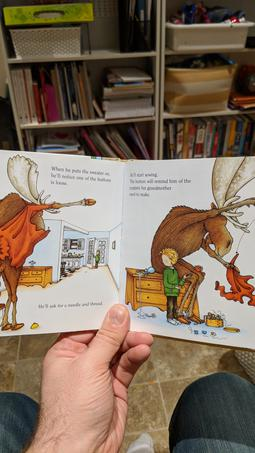text block: (124, 167, 198, 202), (40, 161, 113, 193), (34, 292, 109, 315)
